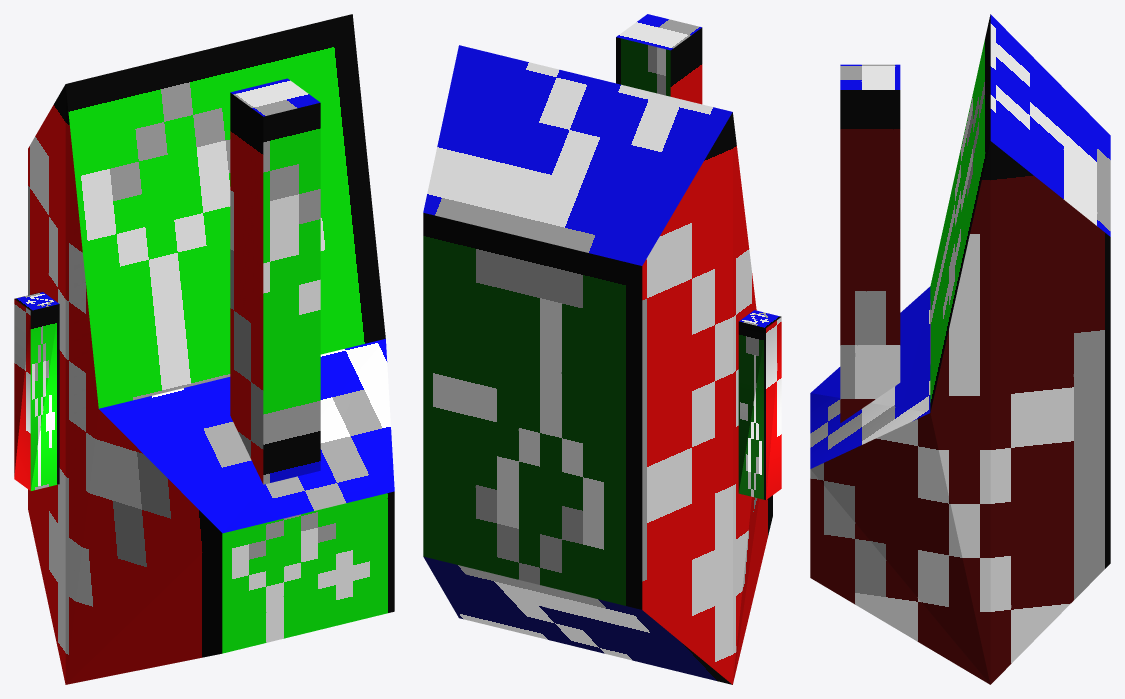
The model's file is heavytank4+z+yinv.obj.
3 views of the same model, side by side, from view 1: azimuth 30°, elevation 25°; view 2: azimuth 150°, elevation 25°; view 3: azimuth 270°, elevation 25° (orthographic). The views are drawn at different scales.
Parts seen in each view (by area): view 1: Cube; view 2: Cube; view 3: Cube.
Boxes of the visible parts, x1,y1,x2,y2 form: Cube: [14, 14, 394, 684]; Cube: [423, 14, 781, 684]; Cube: [810, 14, 1110, 684].
Size of the model in its own units: 1.15 by 2 by 1.
Materials: 1 (1 with a texture image).
